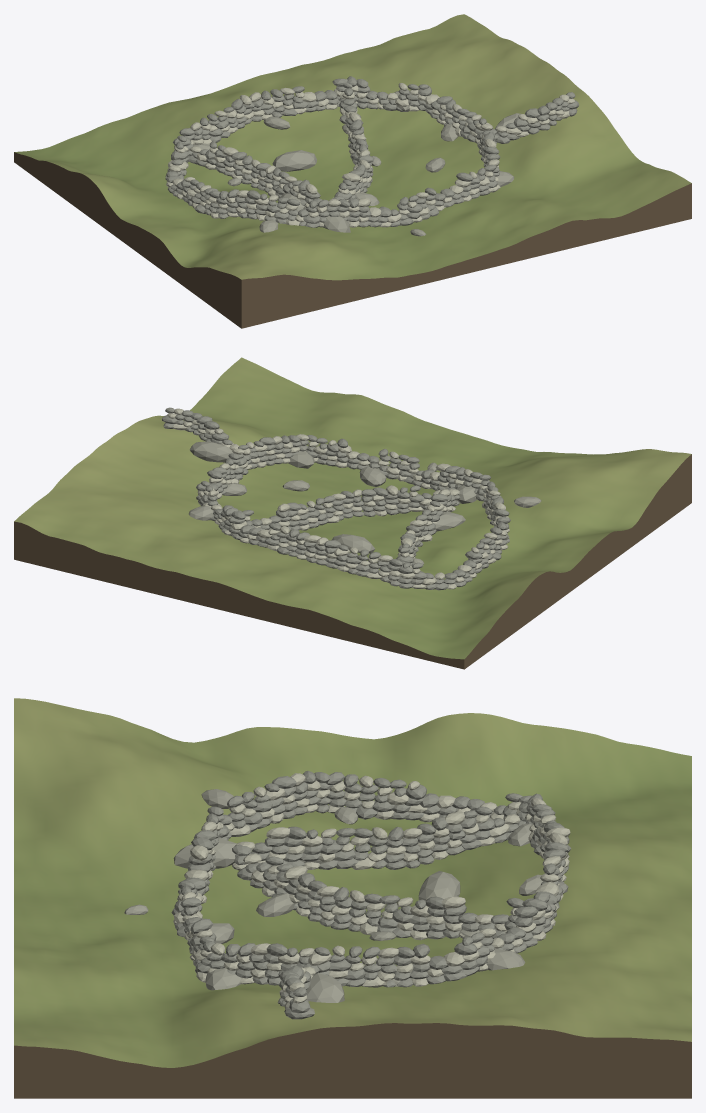
Rendered from gms-56.glb.
3 views of the same model, one above another, from view 1: azimuth 30°, elevation 25°; view 2: azimuth 150°, elevation 25°; view 3: azimuth 270°, elevation 25° (orthographic). The views are drawn at different scales.
Visible parts, largest first — view 1: GMS-56 - estudio del paisaje; view 2: GMS-56 - estudio del paisaje; view 3: GMS-56 - estudio del paisaje.
Part boxes in pixels (<box>): GMS-56 - estudio del paisaje: <box>14,14,691,328</box>; GMS-56 - estudio del paisaje: <box>14,357,691,669</box>; GMS-56 - estudio del paisaje: <box>14,698,691,1098</box>.
Bounding box in the file's own units: 12 × 1.57 × 10.5.
